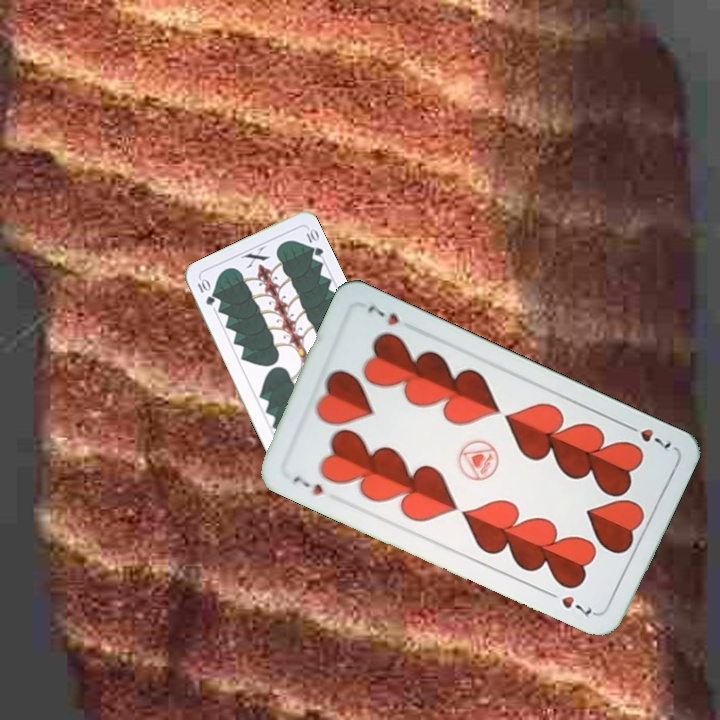G10: (193, 275, 217, 308)
H7: (620, 419, 675, 455), (289, 472, 326, 498)
